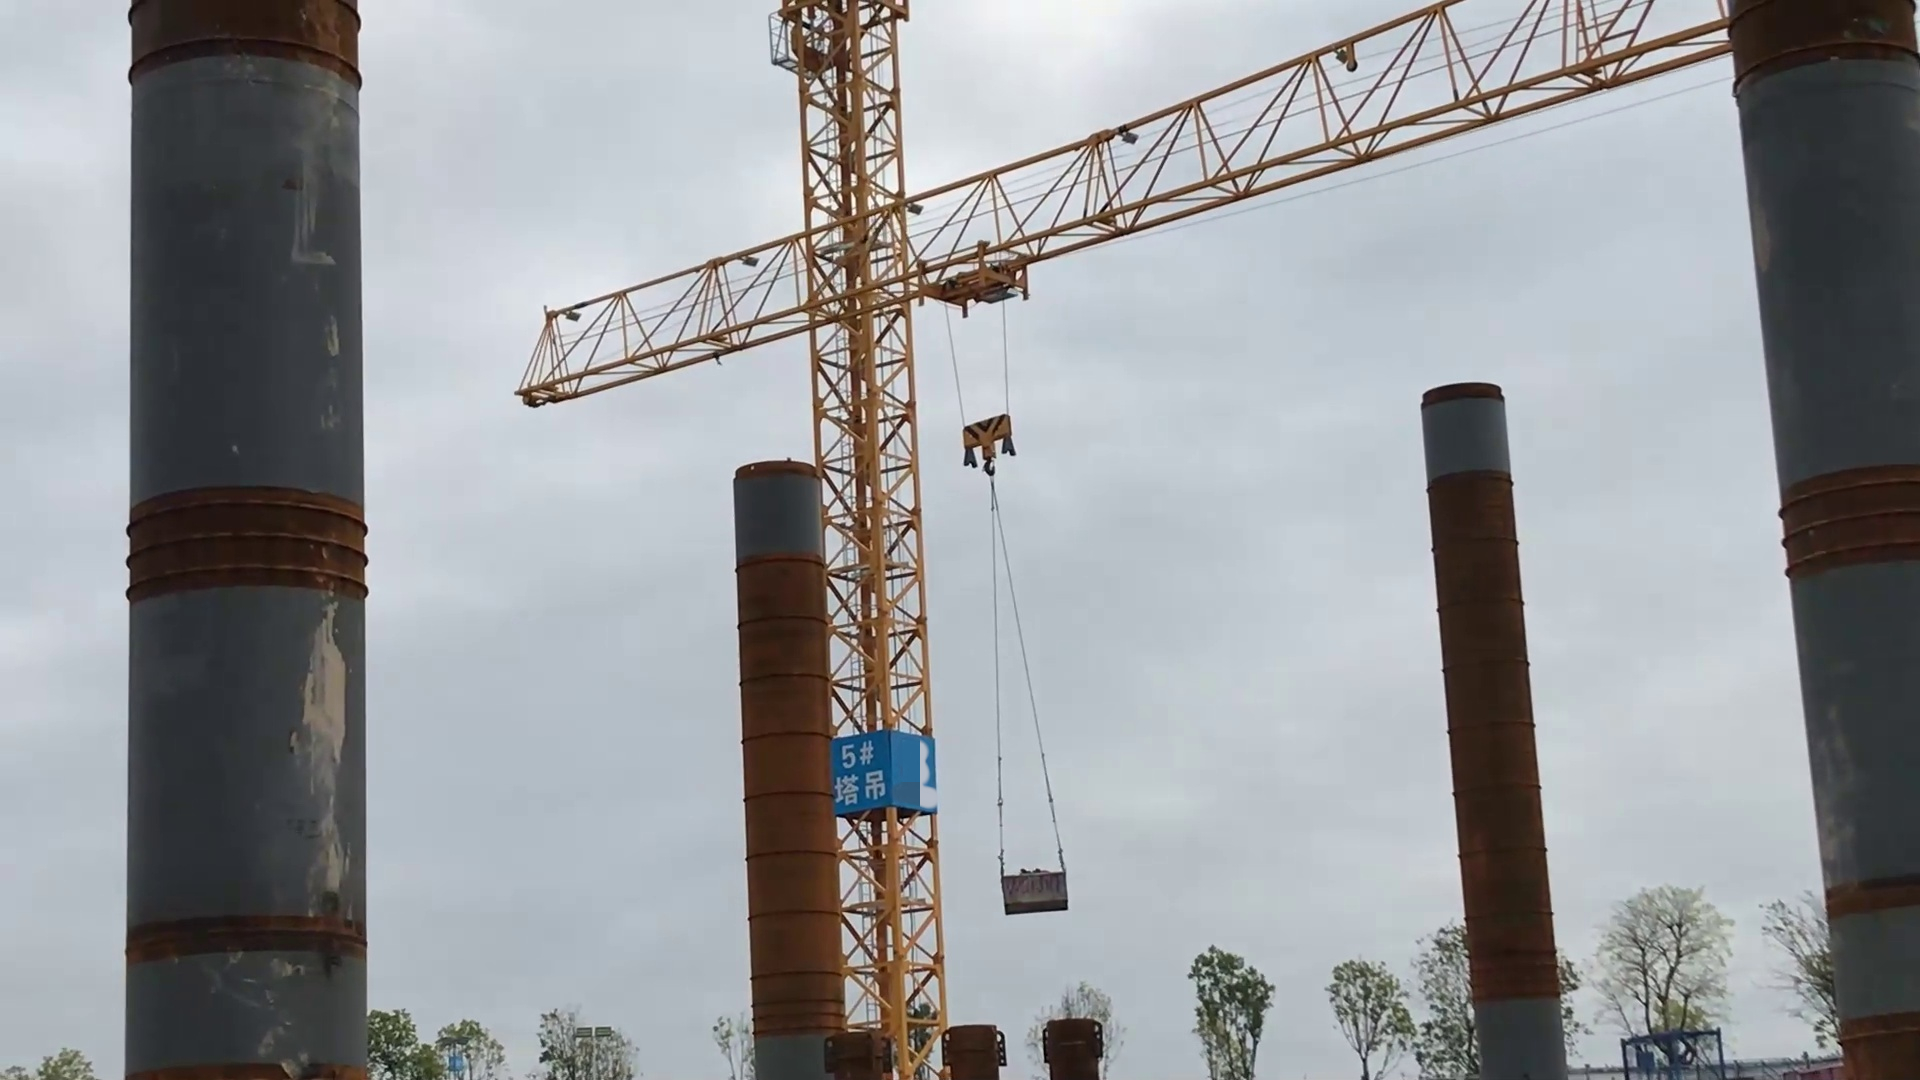hook: (957, 414, 1015, 471)
hopper: (1000, 866, 1069, 914)
